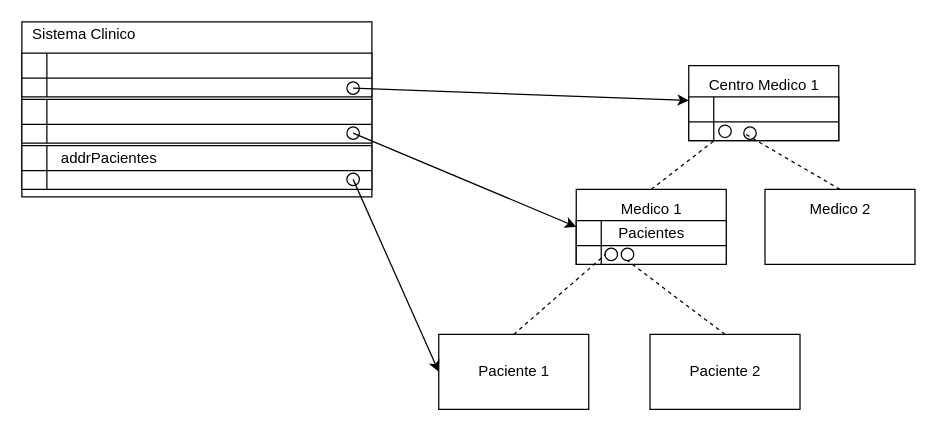
This 938x431 diagram has some shape labels left out. The shapes that lost their labels are listed below. From the top down, each one's centre as x and y in pixels, then its label:
the point at 196,74: addrCentros
the point at 196,120: addrMedicos
the point at 763,118: Medicos
